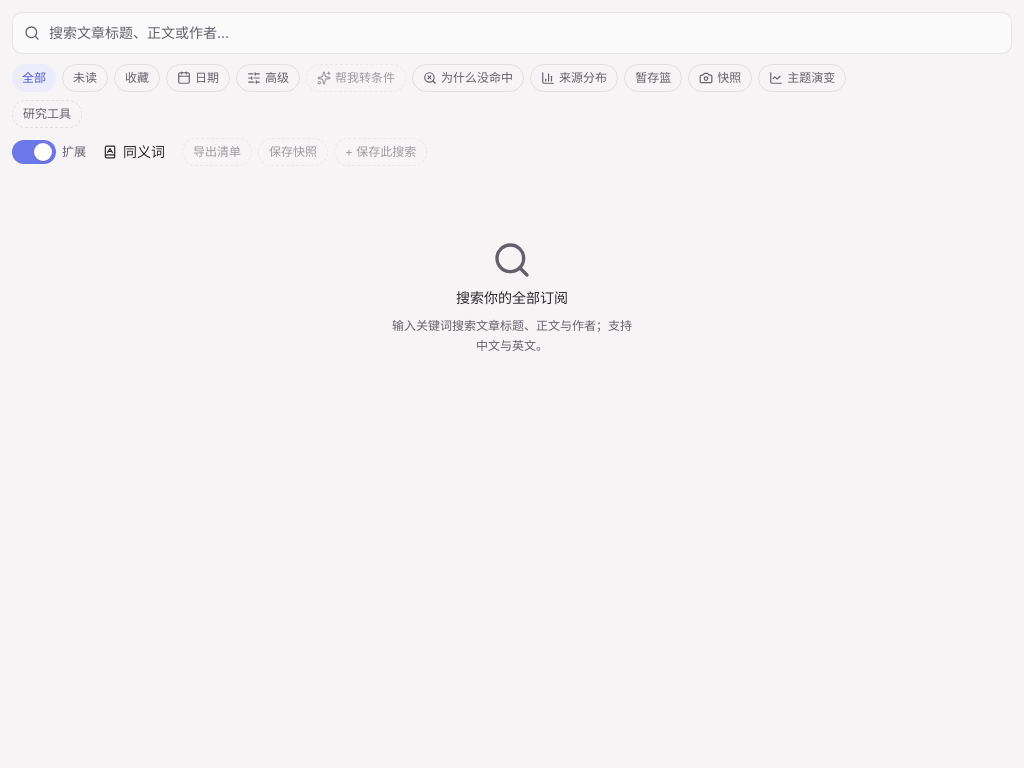
Test: SearchPage — F27 日期筛选 › 快捷范围生成正确 from/to 参数（断言 fetch URL）；chip 显示并可清除恢复
In the search field labelled "搜索": (512, 33) x1=12 y1=12 x2=1012 y2=54, type "react"
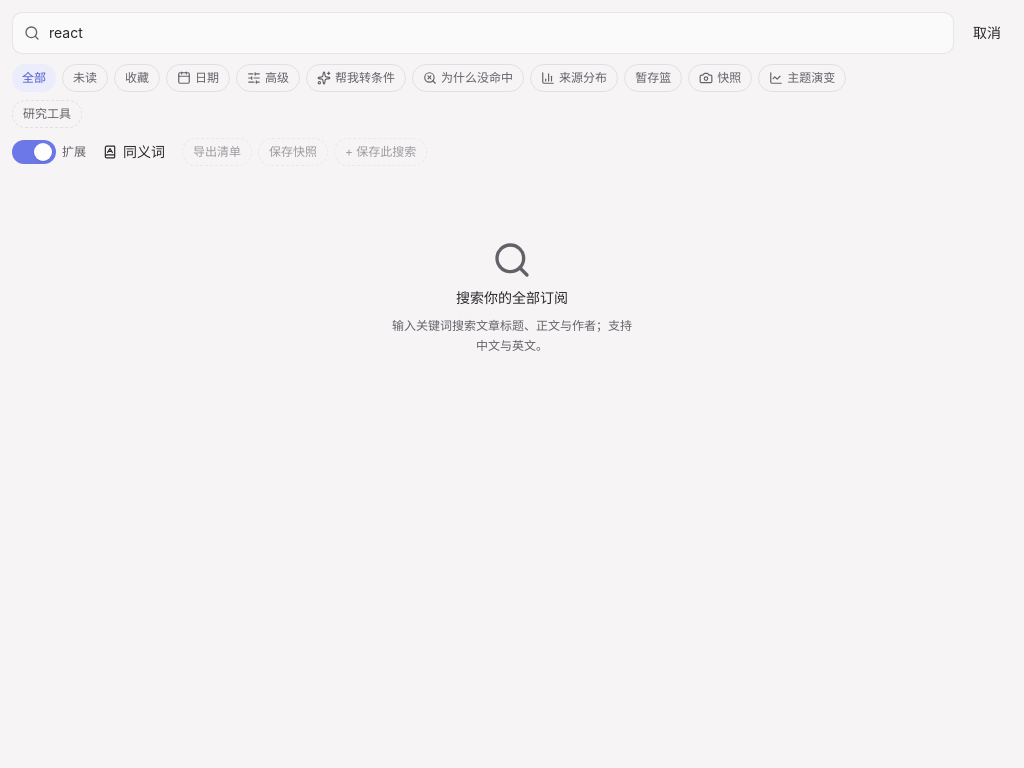
Press Enter in the search field named "搜索", box x1=12 y1=12 x2=954 y2=54
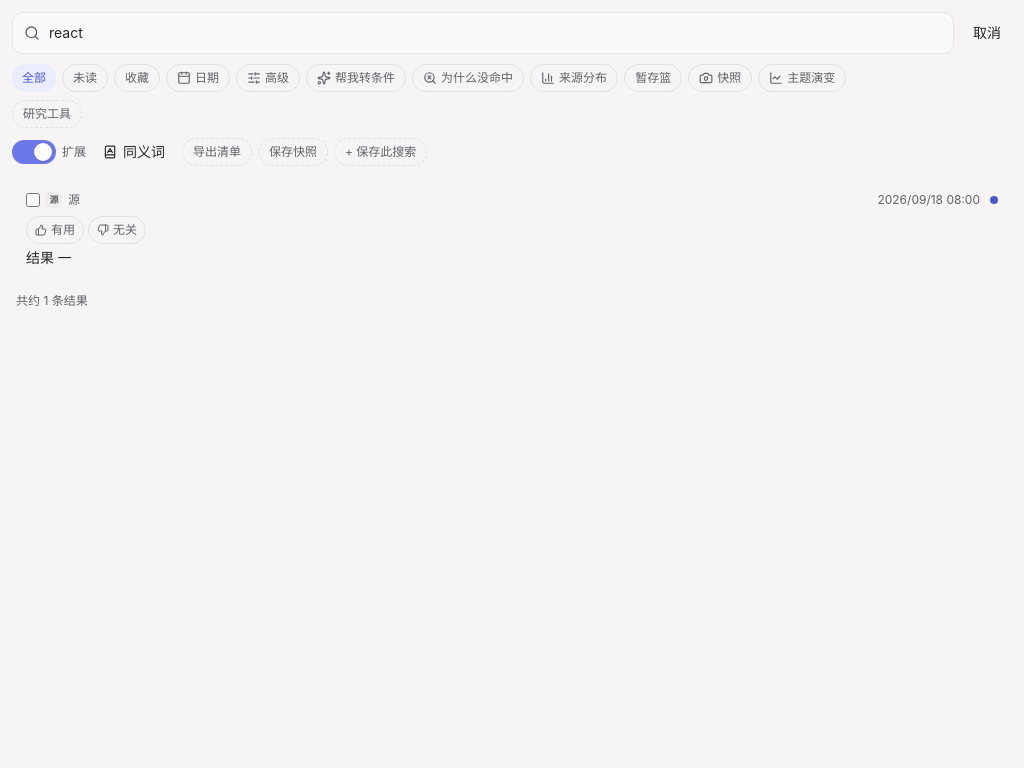
Now the text "结果 一" is shown, box x1=26 y1=248 x2=72 y2=268
Click the button with test id "date-panel-toggle": (198, 78) x1=166 y1=64 x2=230 y2=92
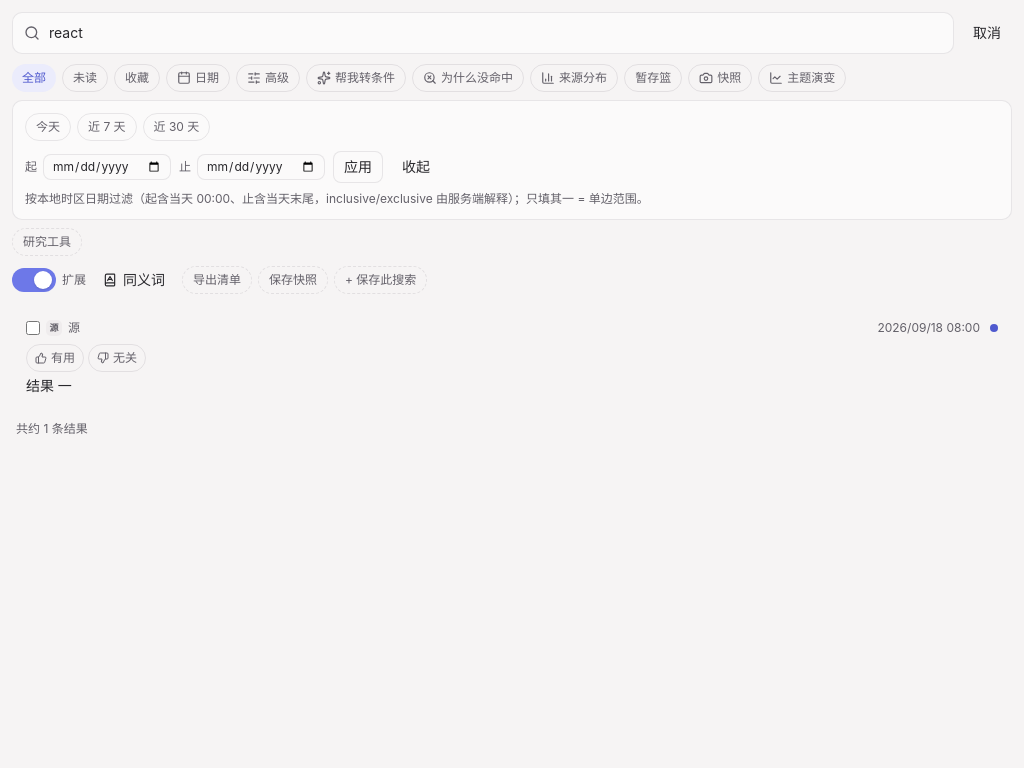
Now the element with test id "date-panel" is shown, box x1=12 y1=100 x2=1012 y2=220
Click the button with test id "quick-range-7d": (107, 127) x1=77 y1=113 x2=136 y2=141
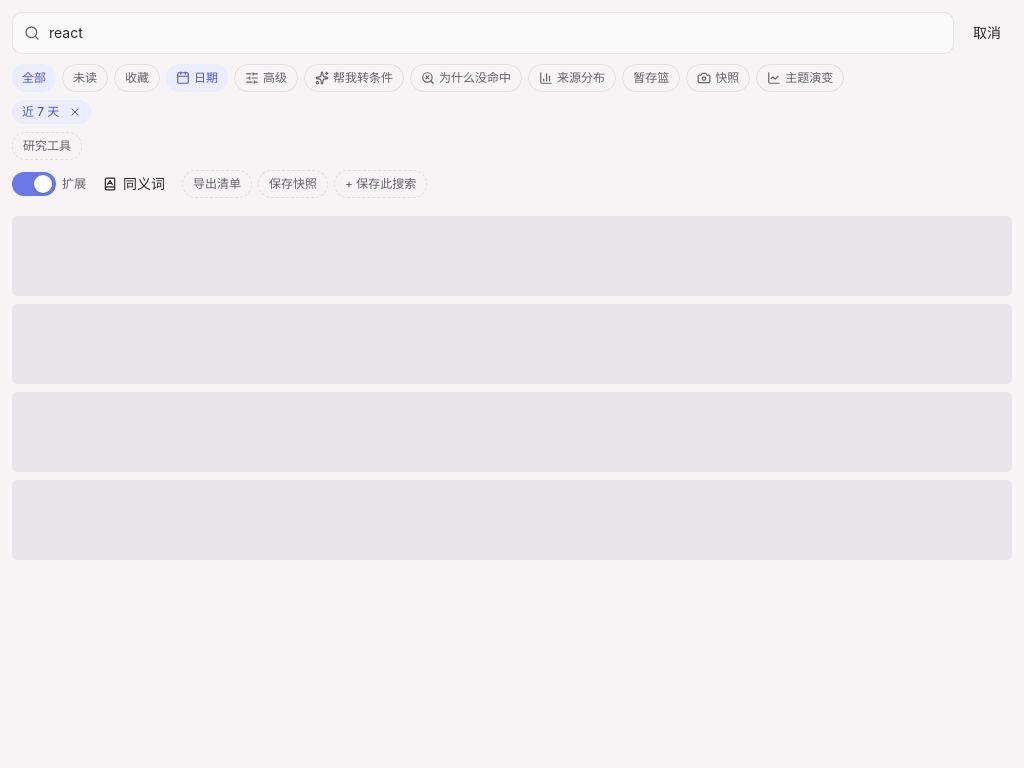
Now the text with test id "applied-date-label" reads "近 7 天", box x1=22 y1=104 x2=59 y2=119
Click the button named "清除日期范围「近 7 天」": (75, 112) x1=63 y1=100 x2=87 y2=124
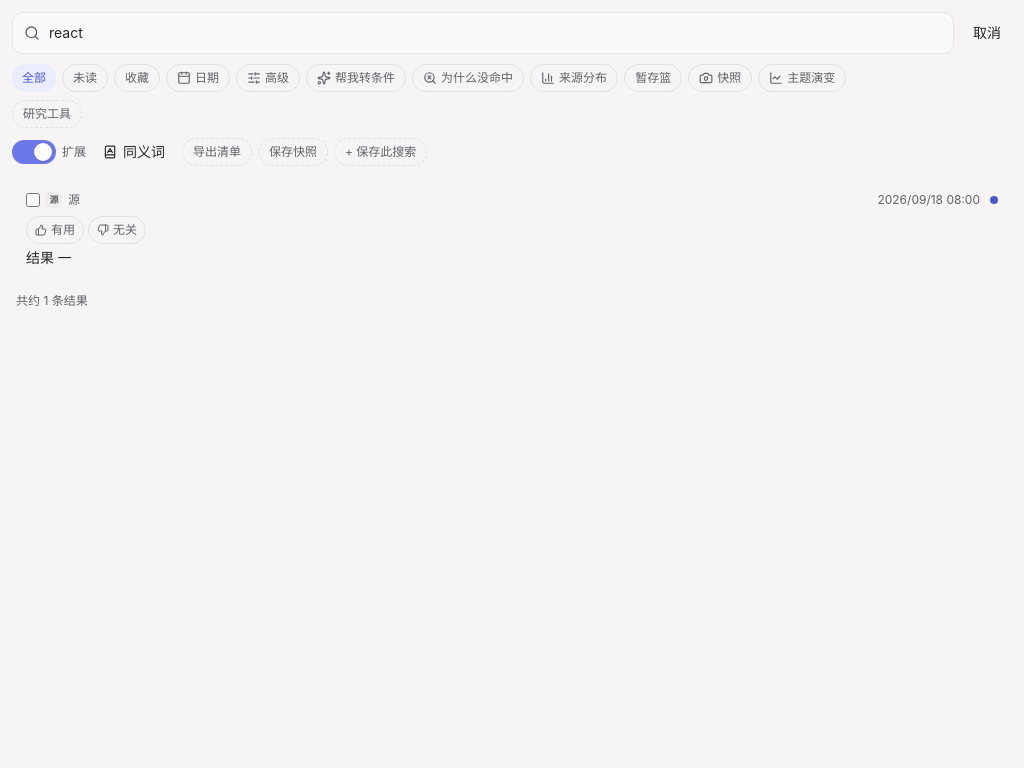
Now the text with test id "applied-date-label" is gone
